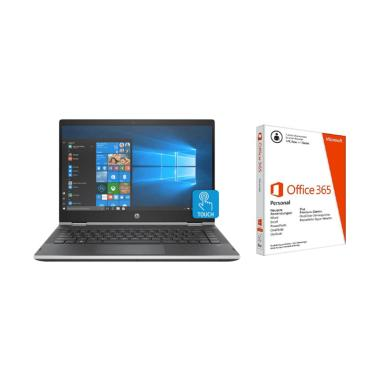Laptop: (31, 114, 243, 265)
